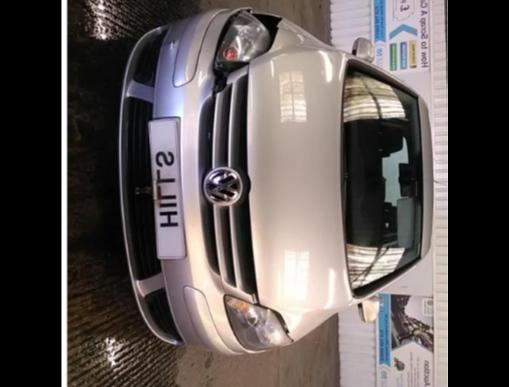Broken part: (201, 66, 263, 306), (212, 9, 282, 77)
Dent: (169, 32, 182, 68)
Scratch: (162, 39, 179, 49)
